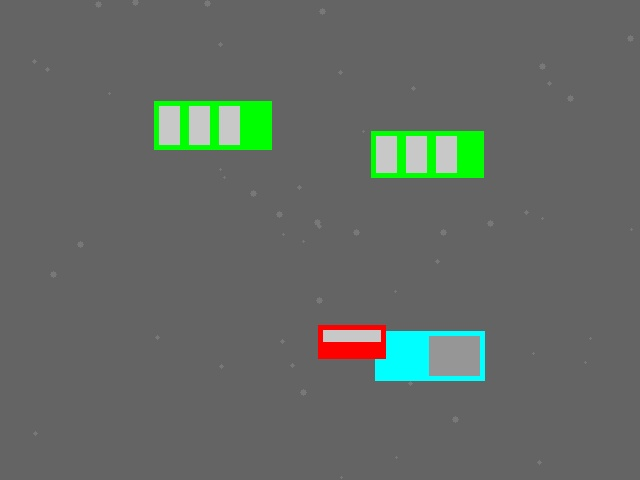bus: (154, 101, 271, 149), (371, 131, 483, 177)
car: (318, 325, 385, 358)
truck: (375, 331, 484, 380)
